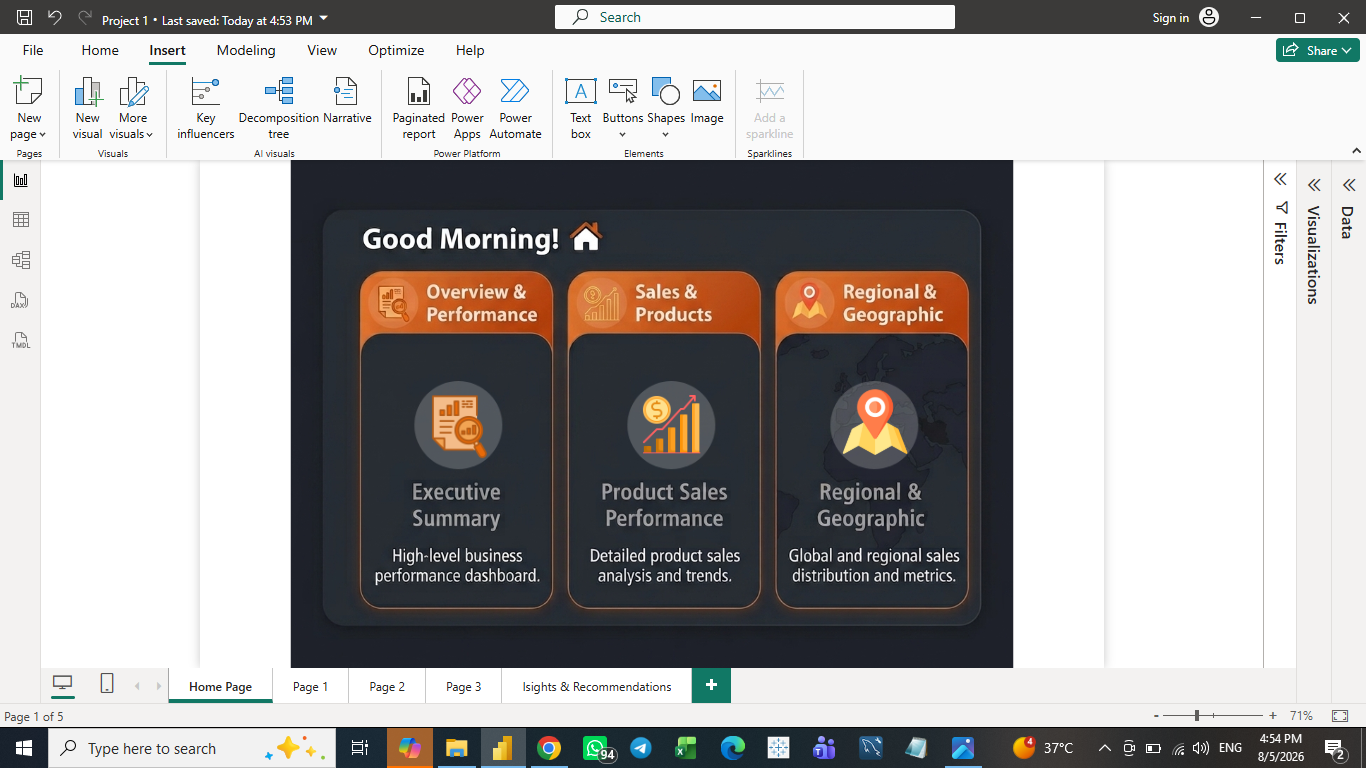

This screenshot's page, from the dashboard's own definition file:
{"tool":"powerbi","page":{"name":"Home Page","canvas":[1280,720],"ordinal":0},"visuals":[{"type":"image","box":[236.7,282,259.4,177.2],"z":0},{"type":"image","box":[538.6,282,259.4,177.2],"z":1},{"type":"image","box":[826.3,282,259.4,177.2],"z":2},{"type":"image","box":[323.1,324.6,89.3,106.3],"z":3},{"type":"image","box":[609.4,333.1,117.6,83.6],"z":4},{"type":"image","box":[909.9,292,93.5,158.7],"z":5}]}

Visuals, with their boxes on the page's 1280x720 design canvas (x1, y1, x2, y2). These are canvas units, not pixel positions in the 1366x768 screenshot, which may show the page scaled, cropped or inside an application window:
image: (237, 282, 496, 459)
image: (539, 282, 798, 459)
image: (826, 282, 1086, 459)
image: (323, 325, 412, 431)
image: (609, 333, 727, 417)
image: (910, 292, 1003, 451)
